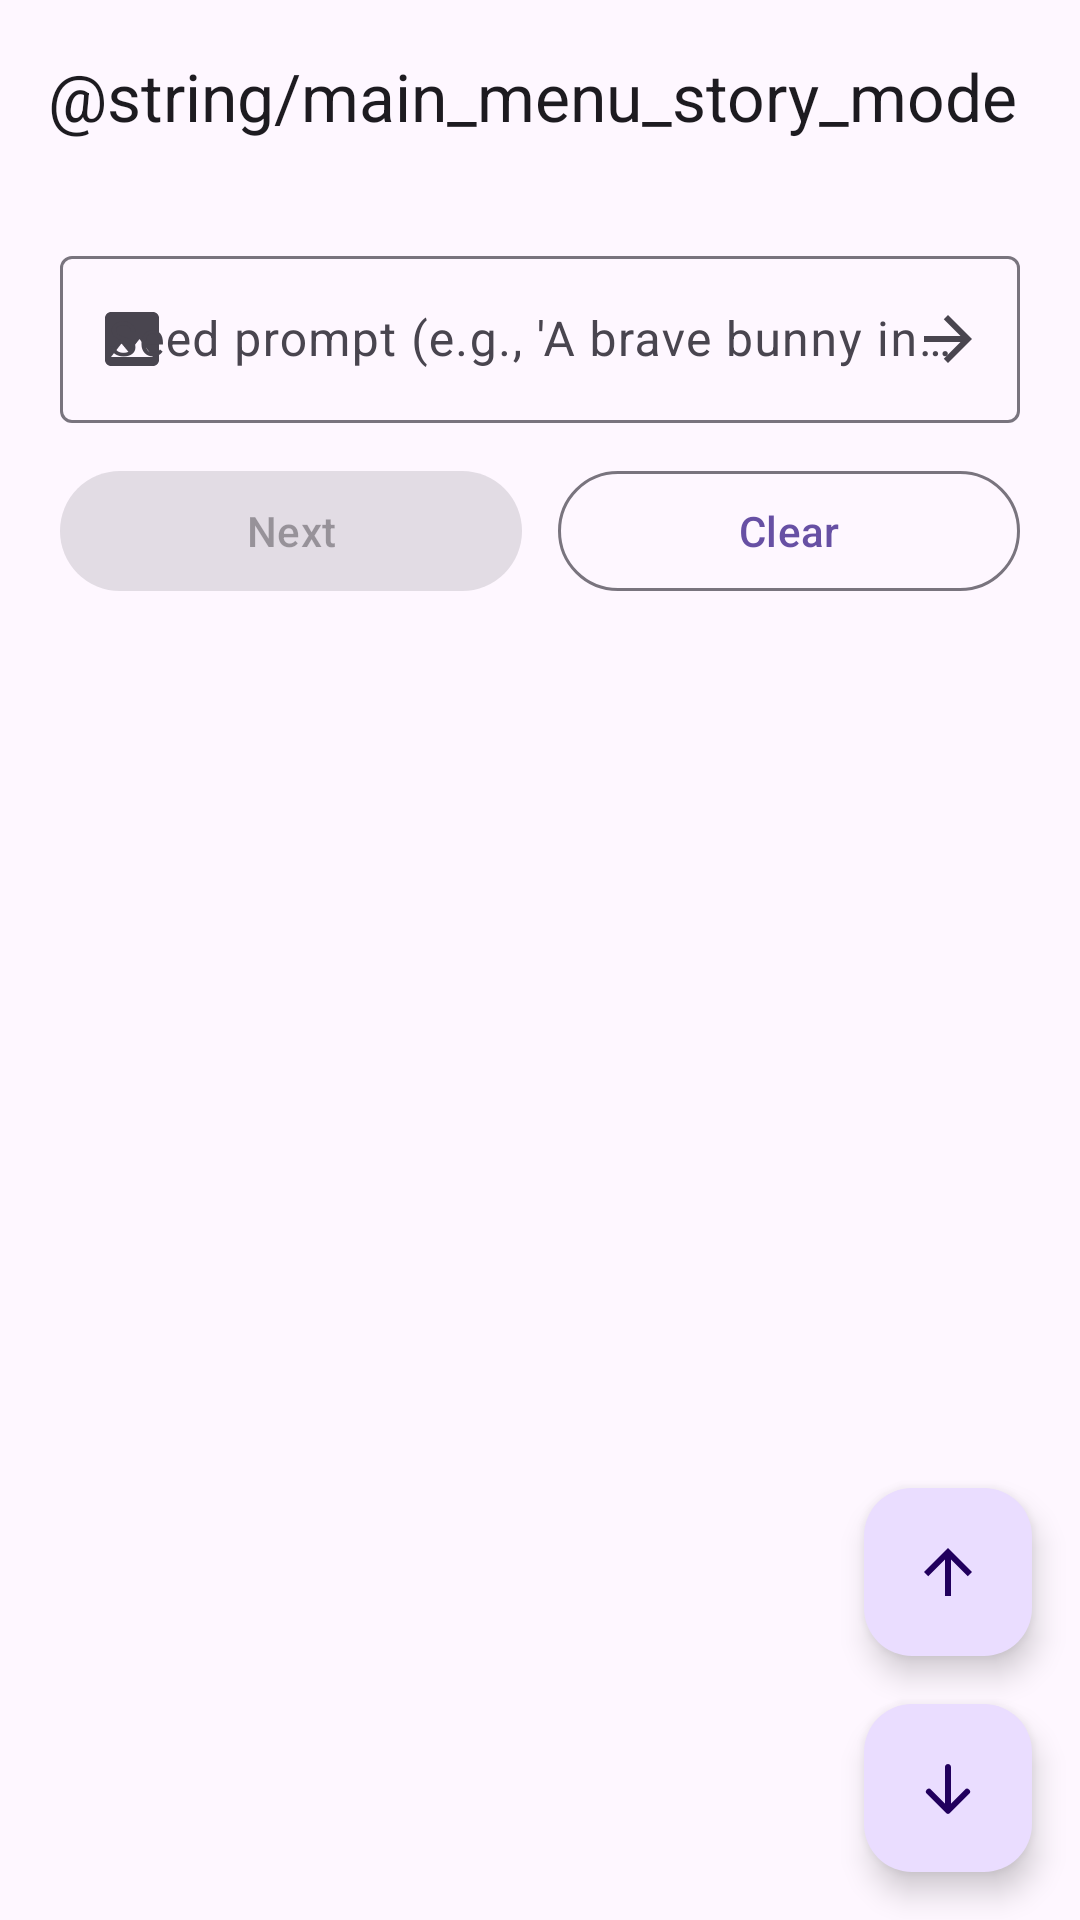

Where to tap for icons on this 1080 x 1920 app screen, as [x,y]:
arrow downward: [948,1788]
arrow upward: [948,1572]
